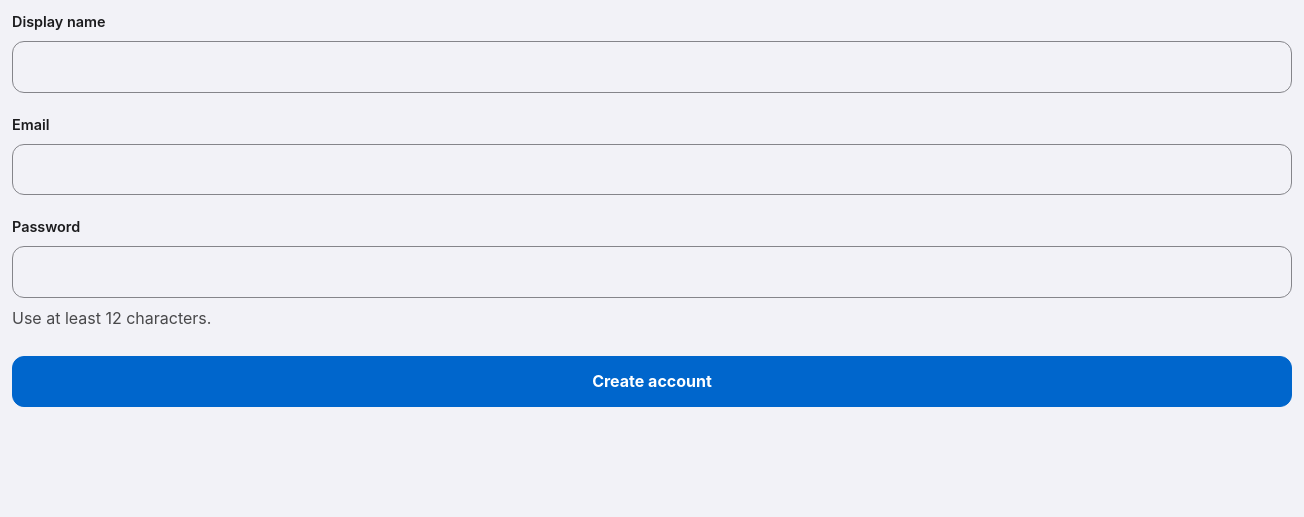
Scenario: AuthForm › renders accessible registration fields and validation messages
This screenshot has width=1304, height=517.
Expected: the field labelled "Display name" is shown, top-left (12, 41), bottom-right (1292, 93)
Expected: the field labelled "Email" is shown, top-left (12, 144), bottom-right (1292, 195)
Step 1. Click the button "Create account" → (652, 381), box top-left (12, 356), bottom-right (1292, 407)
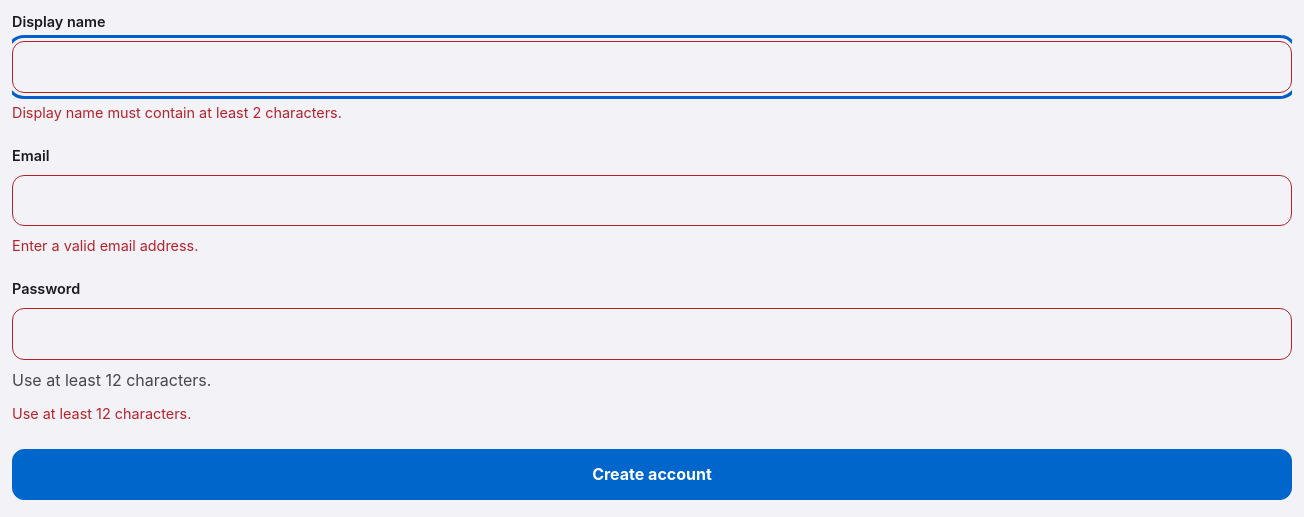
Expected: the number of messages is 3, top-left (12, 104), bottom-right (342, 121); top-left (12, 237), bottom-right (198, 254); top-left (12, 405), bottom-right (191, 422)
